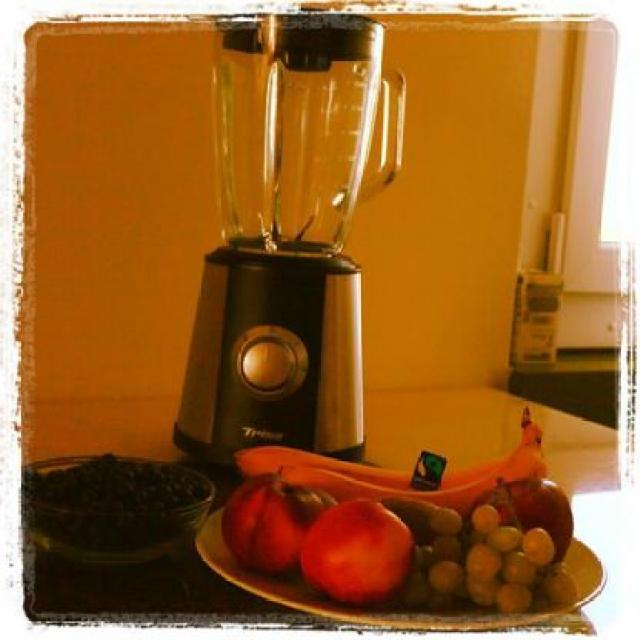Peach: (298, 495, 409, 611), (222, 468, 336, 578), (476, 479, 574, 563), (393, 499, 441, 543)
